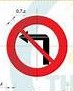No_turn_left: (6, 15, 68, 78)
